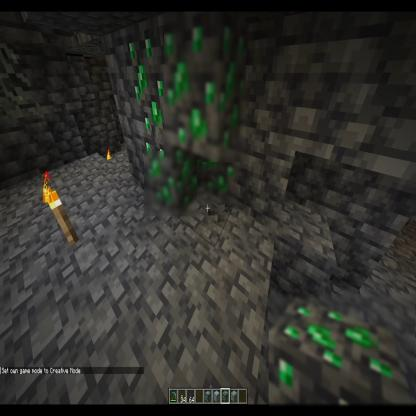emerald ore: (269, 294, 415, 416), (164, 13, 246, 162), (126, 16, 180, 151), (144, 141, 197, 216), (198, 154, 238, 204)
